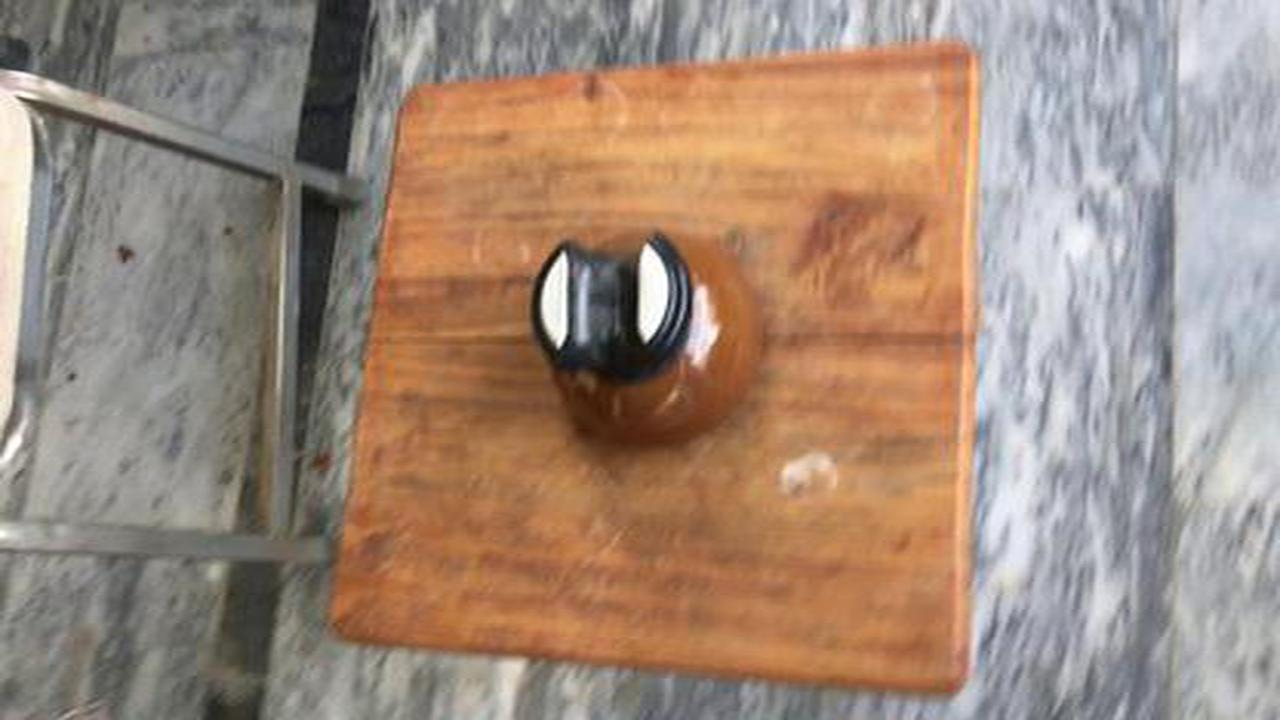insulator_pin: (514, 219, 788, 464)
